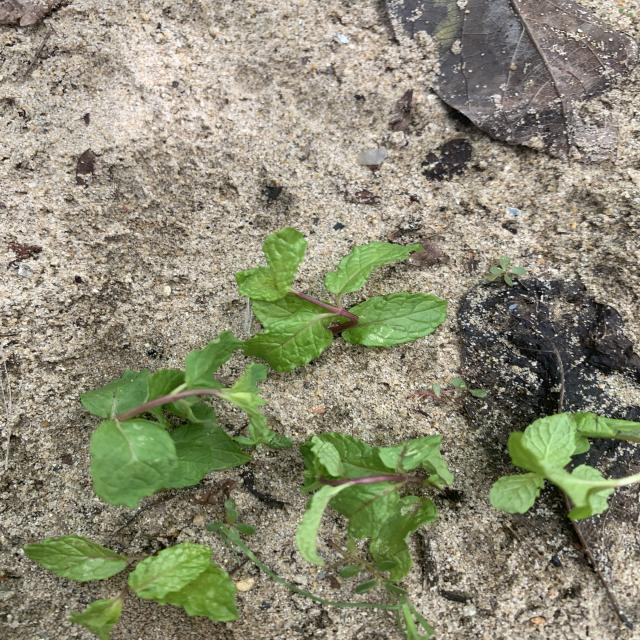crop: (82, 332, 268, 508), (235, 228, 447, 372), (296, 432, 452, 579), (24, 535, 238, 639), (490, 413, 639, 518)
weed: (227, 540, 434, 639), (328, 539, 407, 597), (206, 503, 255, 542), (409, 376, 486, 400), (233, 423, 293, 449), (487, 256, 526, 285)
